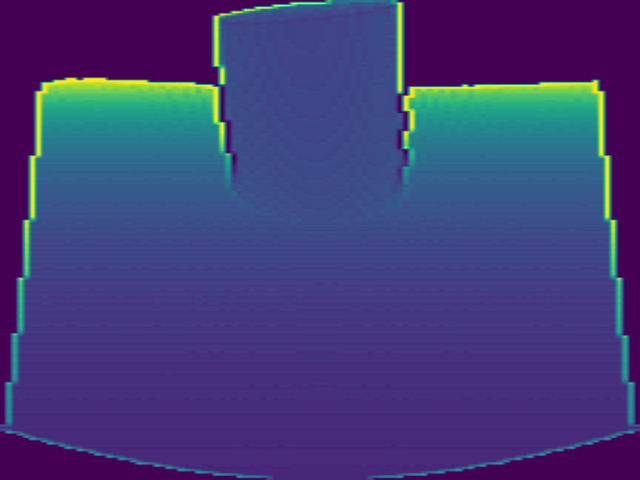cylinder: (209, 2, 414, 210)
